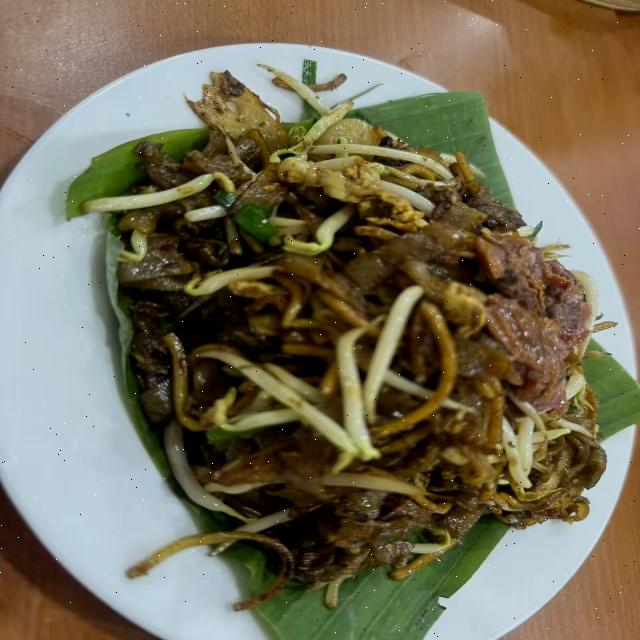Char Kway Teow: (87, 88, 616, 600)
